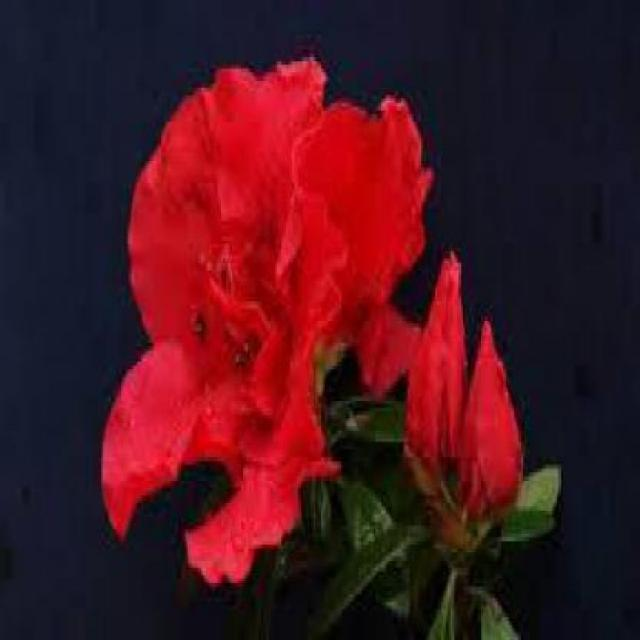flower: (87, 44, 433, 565)
